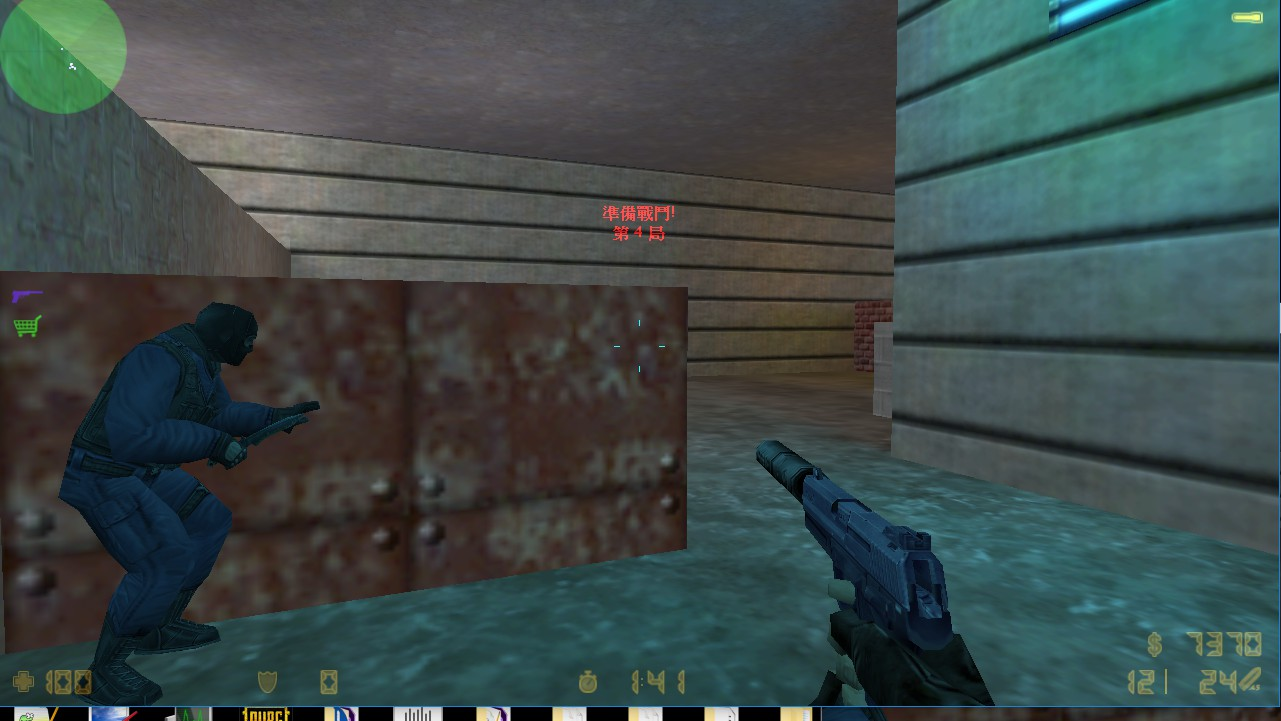person: (72, 297, 304, 701)
